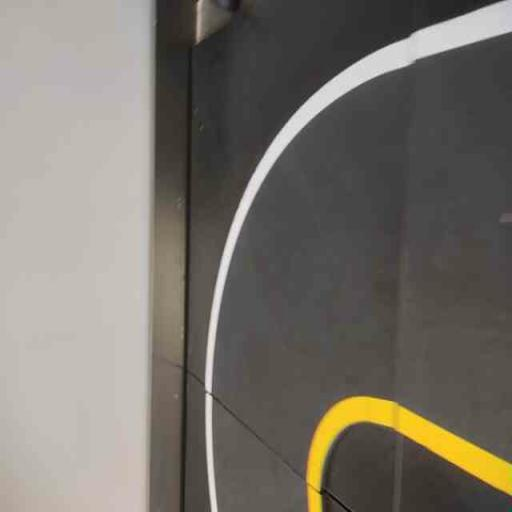left: (198, 23, 416, 511)
